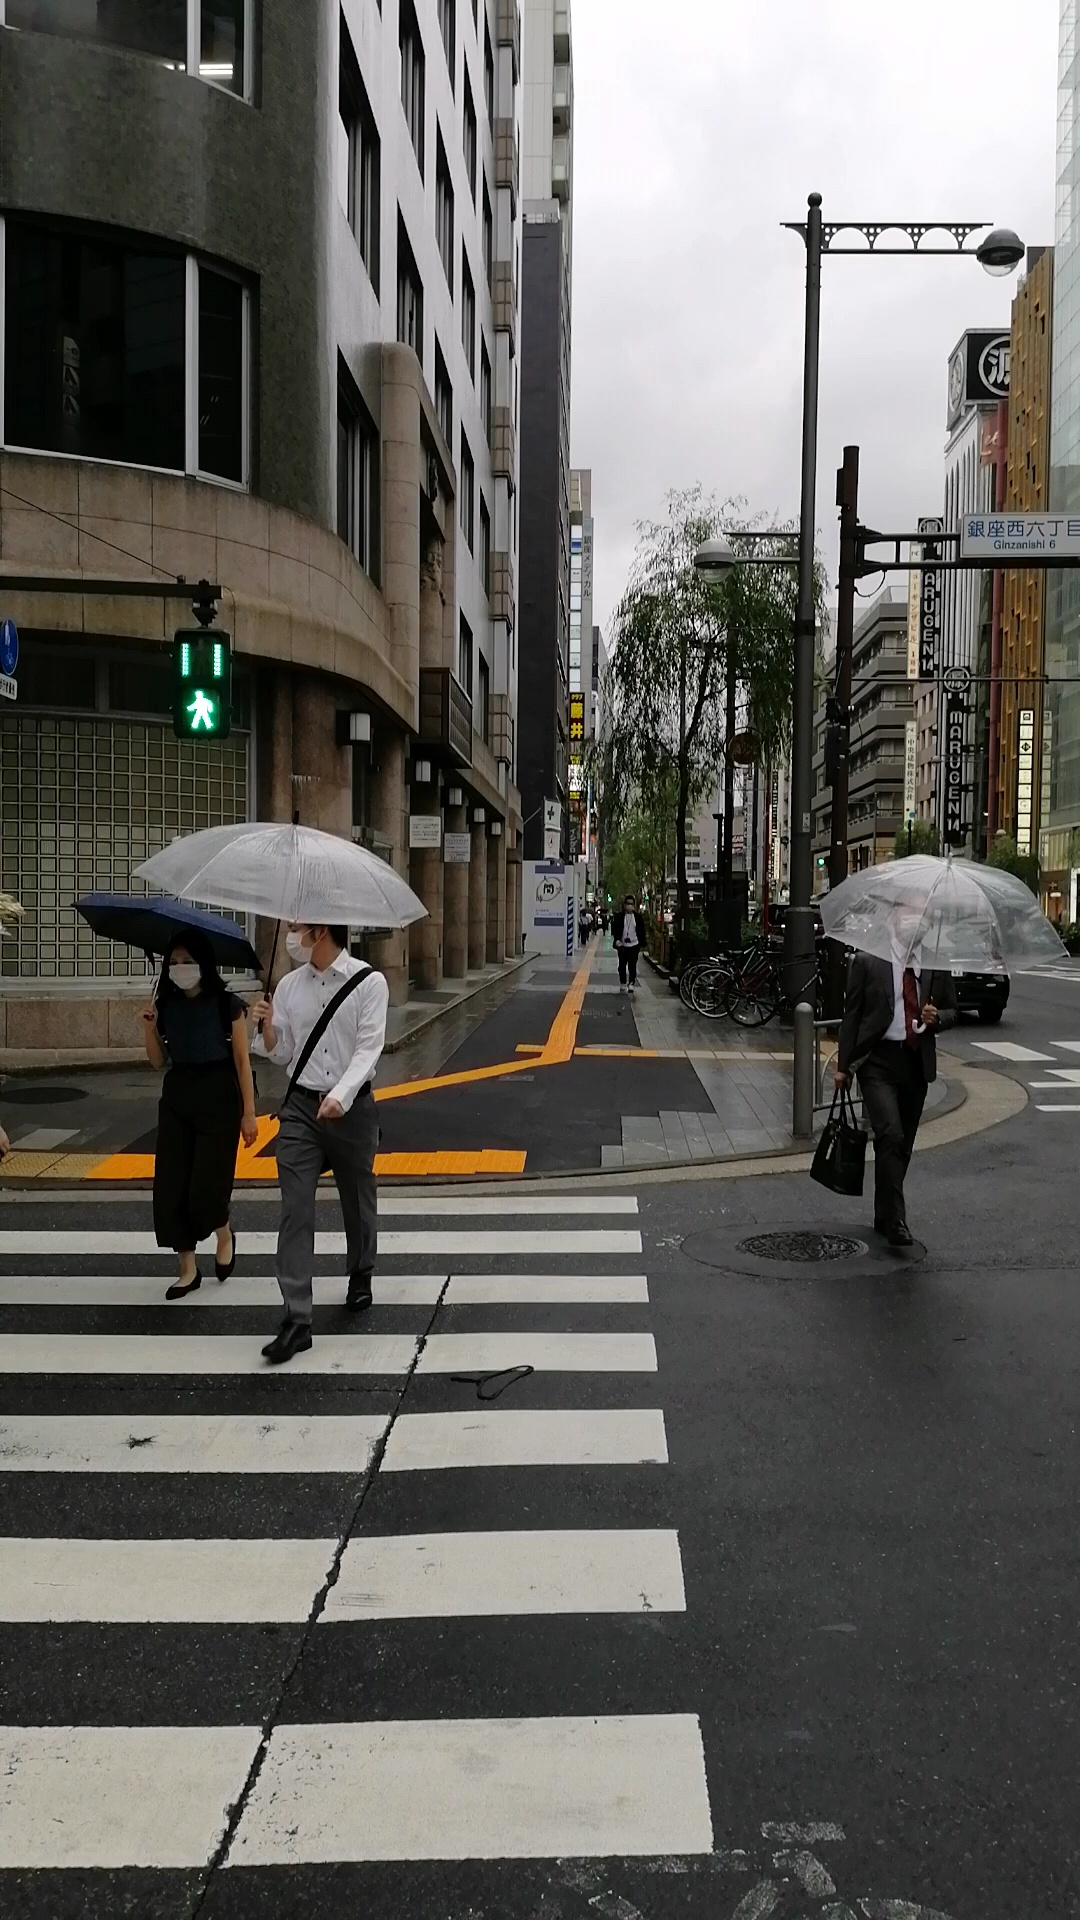green: (173, 626, 233, 735)
